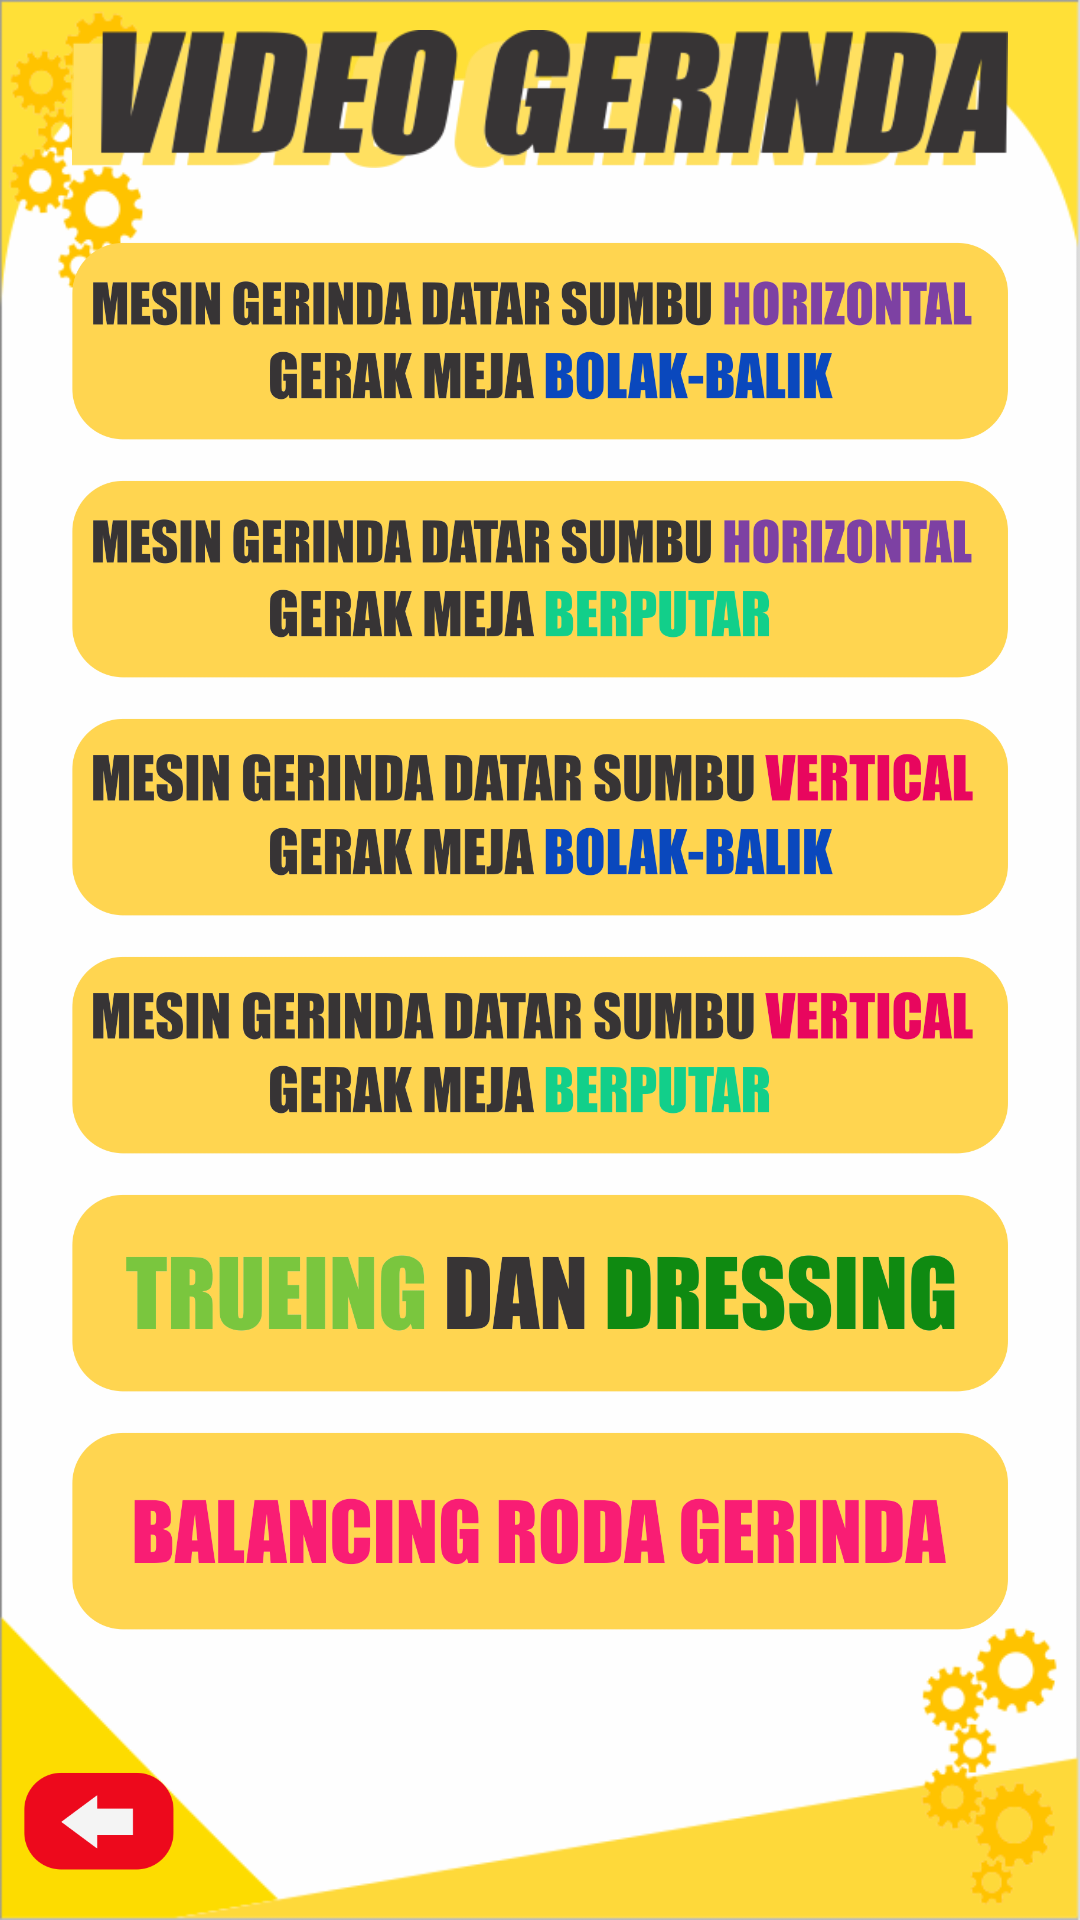

Icons on this 1080*1920 Android screen, each with its box as (x1=x1, y1=y1, x2=x2, y2=y2):
back: (x1=24, y1=1746, x2=174, y2=1870)
